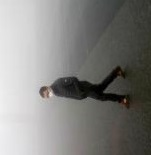person: (37, 67, 129, 109)
